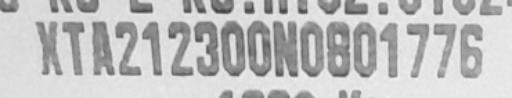letter: (32, 18, 66, 76), (268, 19, 302, 75), (112, 17, 142, 75), (217, 19, 247, 77), (86, 19, 116, 77), (324, 20, 354, 78), (401, 20, 431, 78), (60, 17, 88, 75), (192, 19, 220, 77), (298, 19, 326, 77), (166, 19, 194, 75), (246, 20, 274, 76), (352, 21, 380, 75), (140, 19, 166, 77), (458, 21, 484, 79), (430, 22, 456, 78), (378, 20, 400, 78)
